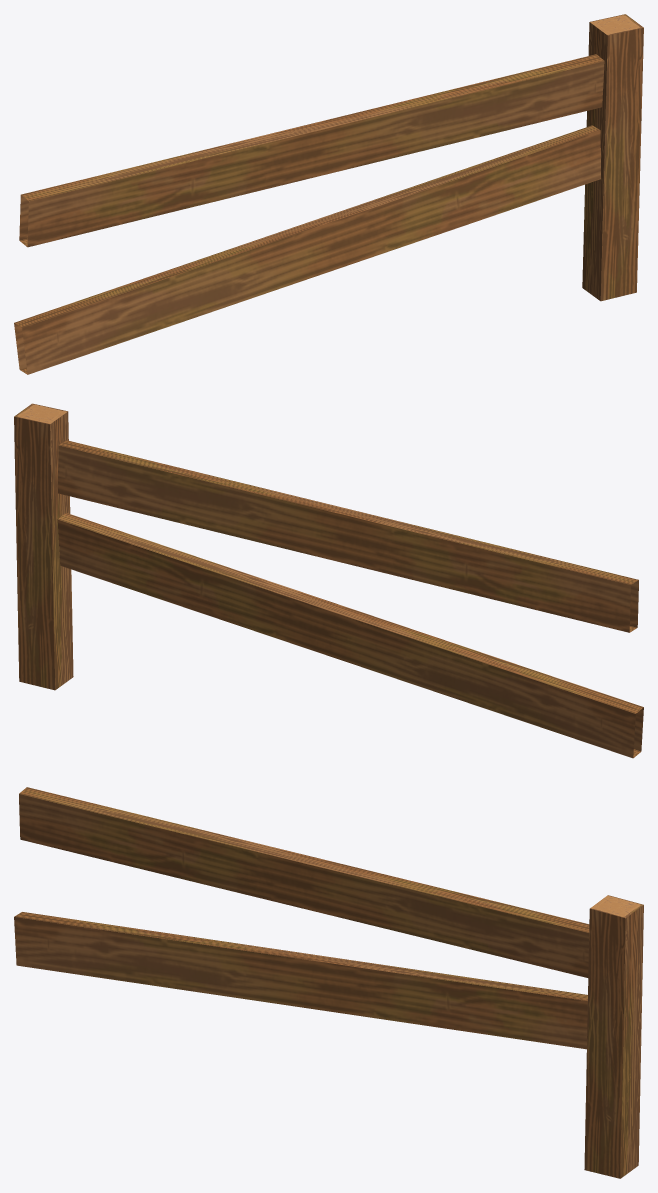
Rendered from prop_fence_ext.glb.
3 renders of one model, top to bottom at view 1: azimuth 30°, elevation 25°; view 2: azimuth 150°, elevation 25°; view 3: azimuth 330°, elevation 25°, orthographic.
Visible parts, largest first — view 1: prop_fence_ext; view 2: prop_fence_ext; view 3: prop_fence_ext.
Part boxes in pixels (x1=…): prop_fence_ext: x1=14, y1=14, x2=643, y2=374; prop_fence_ext: x1=14, y1=403, x2=643, y2=758; prop_fence_ext: x1=14, y1=787, x2=643, y2=1178.
Bounding box in the file's own units: 205 × 83.81 × 11.04.
Materials: 1 (1 with a texture image).
